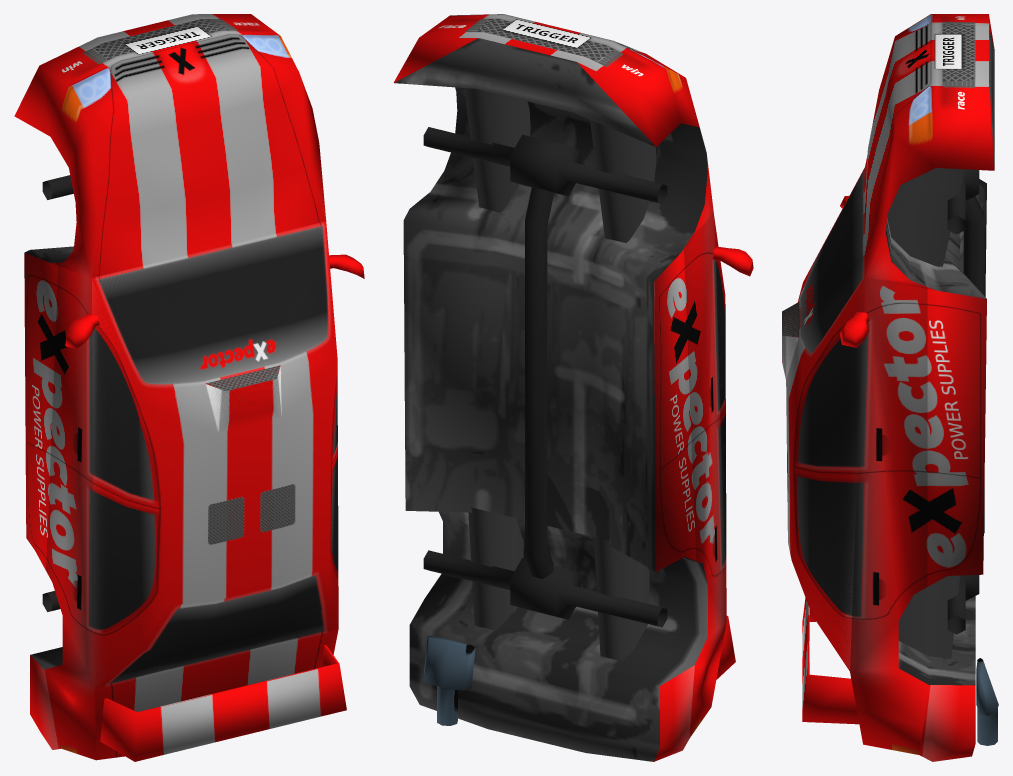
The model's file is evo_super500.obj.
3 renders of one model, left to right at view 1: azimuth 30°, elevation 25°; view 2: azimuth 150°, elevation 25°; view 3: azimuth 270°, elevation 25°, orthographic. The views are drawn at different scales.
Parts seen in each view (by area): view 1: evo.002; view 2: evo.002; view 3: evo.002.
Boxes of the visible parts, x1=… form: evo.002: x1=14, y1=14, x2=364, y2=761; evo.002: x1=393, y1=14, x2=753, y2=761; evo.002: x1=782, y1=14, x2=998, y2=761.
Size of the model in its own units: 2.03 by 4.45 by 1.32.
2 materials, 2 textured.
